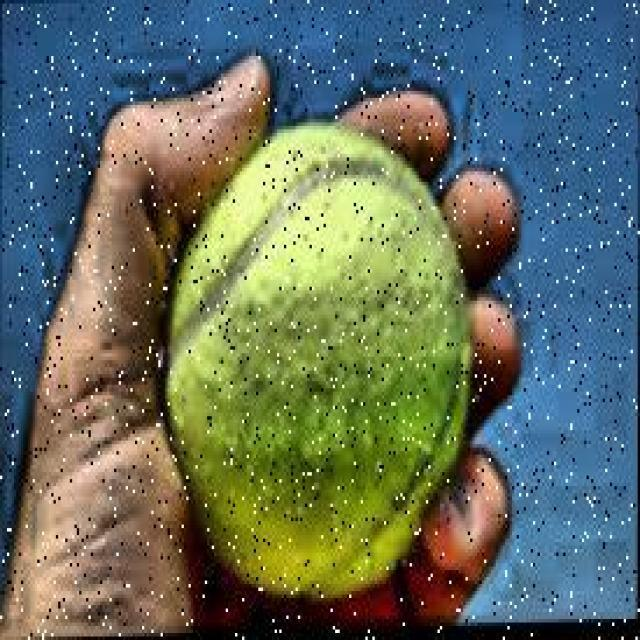tennis-ball: (156, 121, 484, 589)
